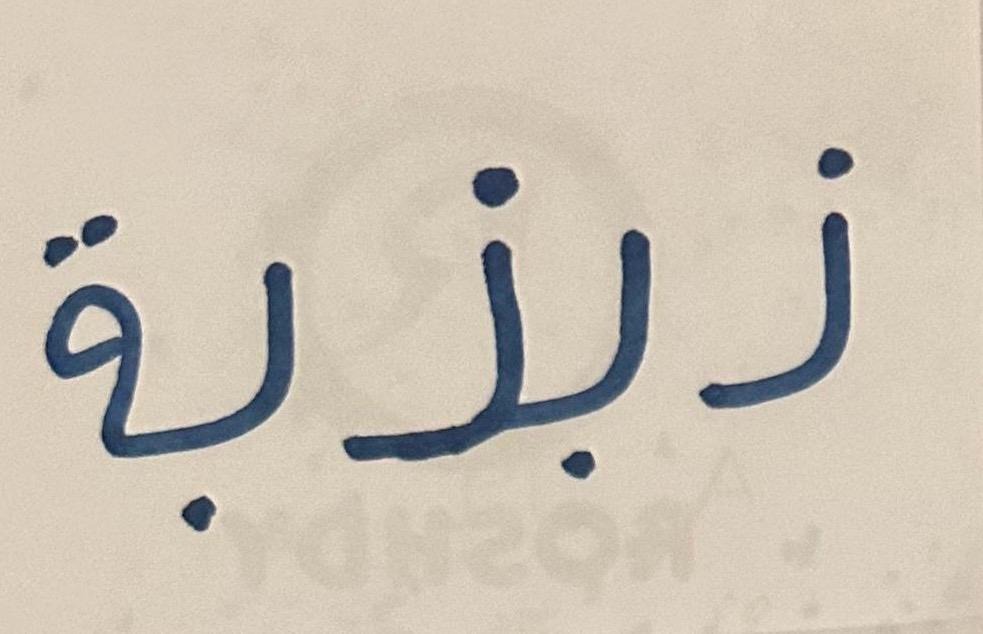ain: (686, 102, 931, 485), (326, 120, 530, 520)
beh: (534, 104, 680, 516), (157, 201, 321, 567)
thal: (7, 180, 155, 515)
